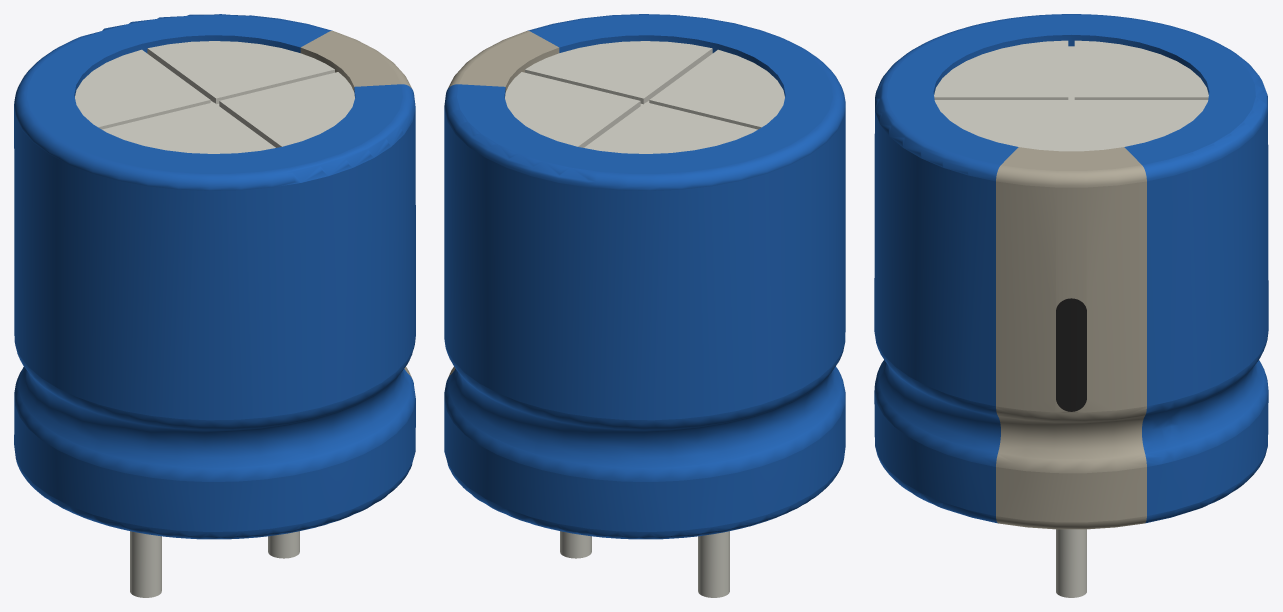
The model's file is electrolytic.glb.
3 views of the same model, side by side, from view 1: azimuth 30°, elevation 25°; view 2: azimuth 150°, elevation 25°; view 3: azimuth 270°, elevation 25° (orthographic).
Visible parts, largest first — view 1: electrolytic; view 2: electrolytic; view 3: electrolytic.
Part boxes in pixels (left/top/right/bottom): electrolytic: left=14, top=14, right=415, bottom=597; electrolytic: left=444, top=14, right=845, bottom=597; electrolytic: left=874, top=14, right=1268, bottom=597.
Bounding box in the file's own units: 6.3 × 8.3 × 6.3.
